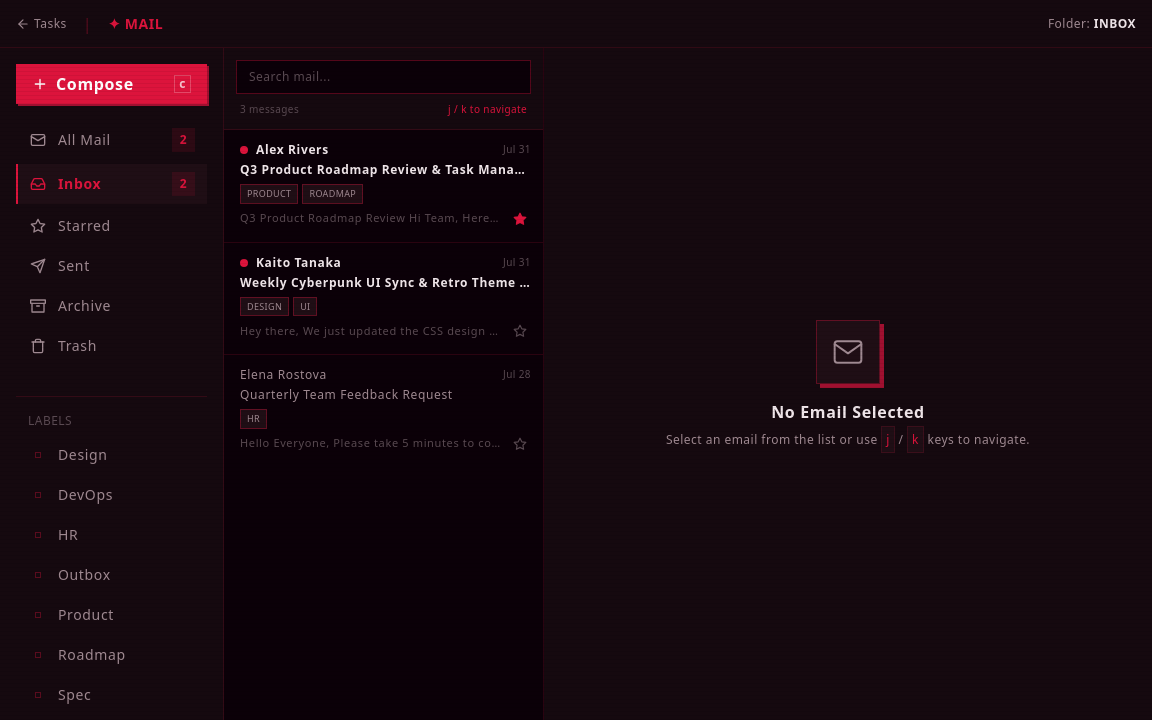
Test: Empirical Adversarial Stress Suite for Mail (Milestone 1) › Check 2: Search Query Handling & Edge Cases › returns to the folder listing when the clear button (✕) is clicked
In the field with placeholder "Search mail...": (384, 77) 236,60 -> 531,94, type "Kaito"
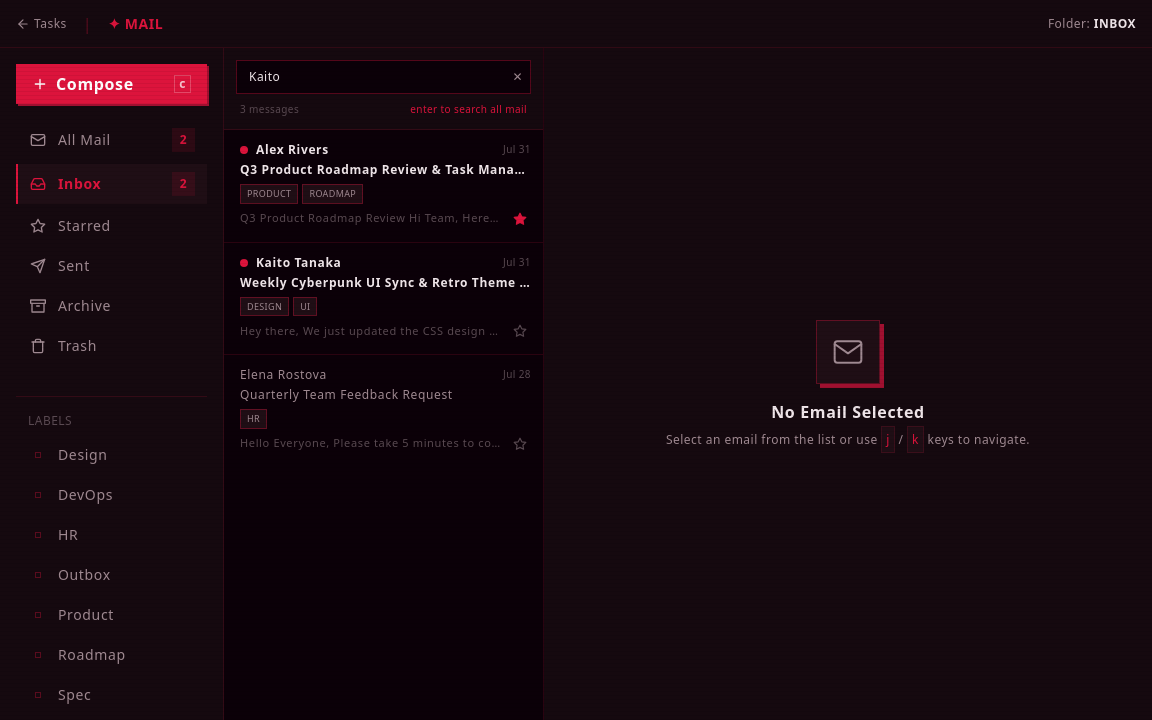
Submit the form with placeholder "Search mail...", box 236,60 -> 531,94
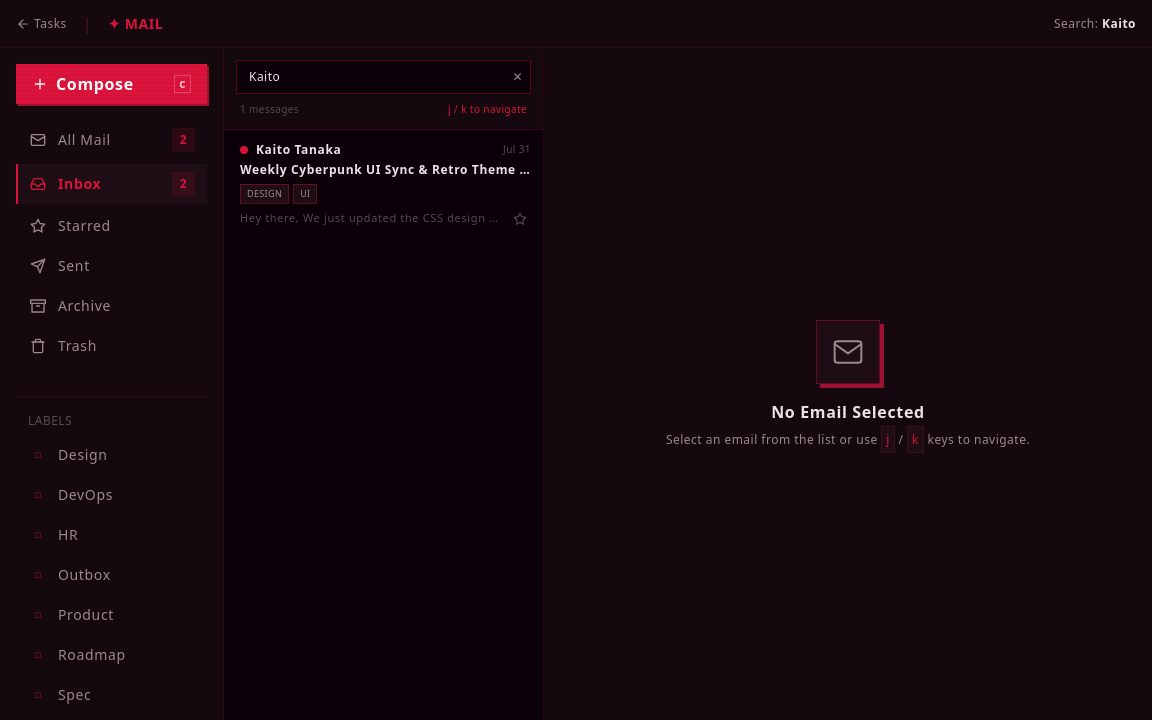
Result: the text "1 messages" is shown at 240,102 -> 299,117
Click the button named "Clear search": click(518, 77) 512,69 -> 523,85
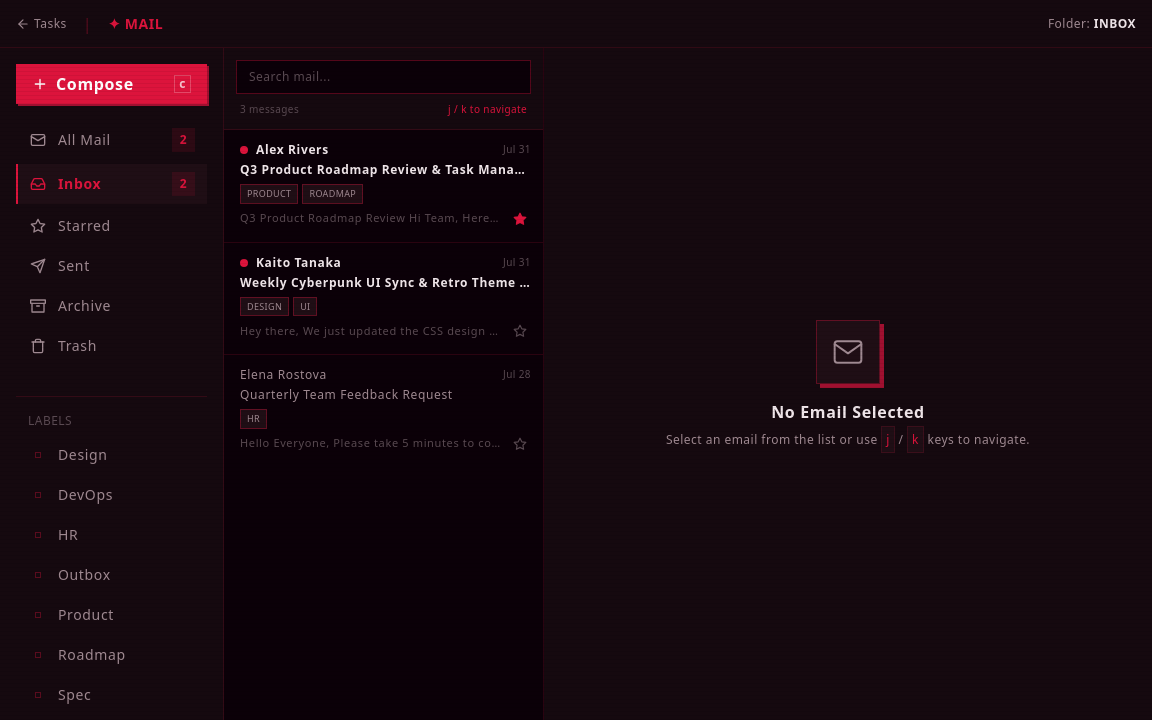
Result: the field with placeholder "Search mail..." is empty at 236,60 -> 531,94
